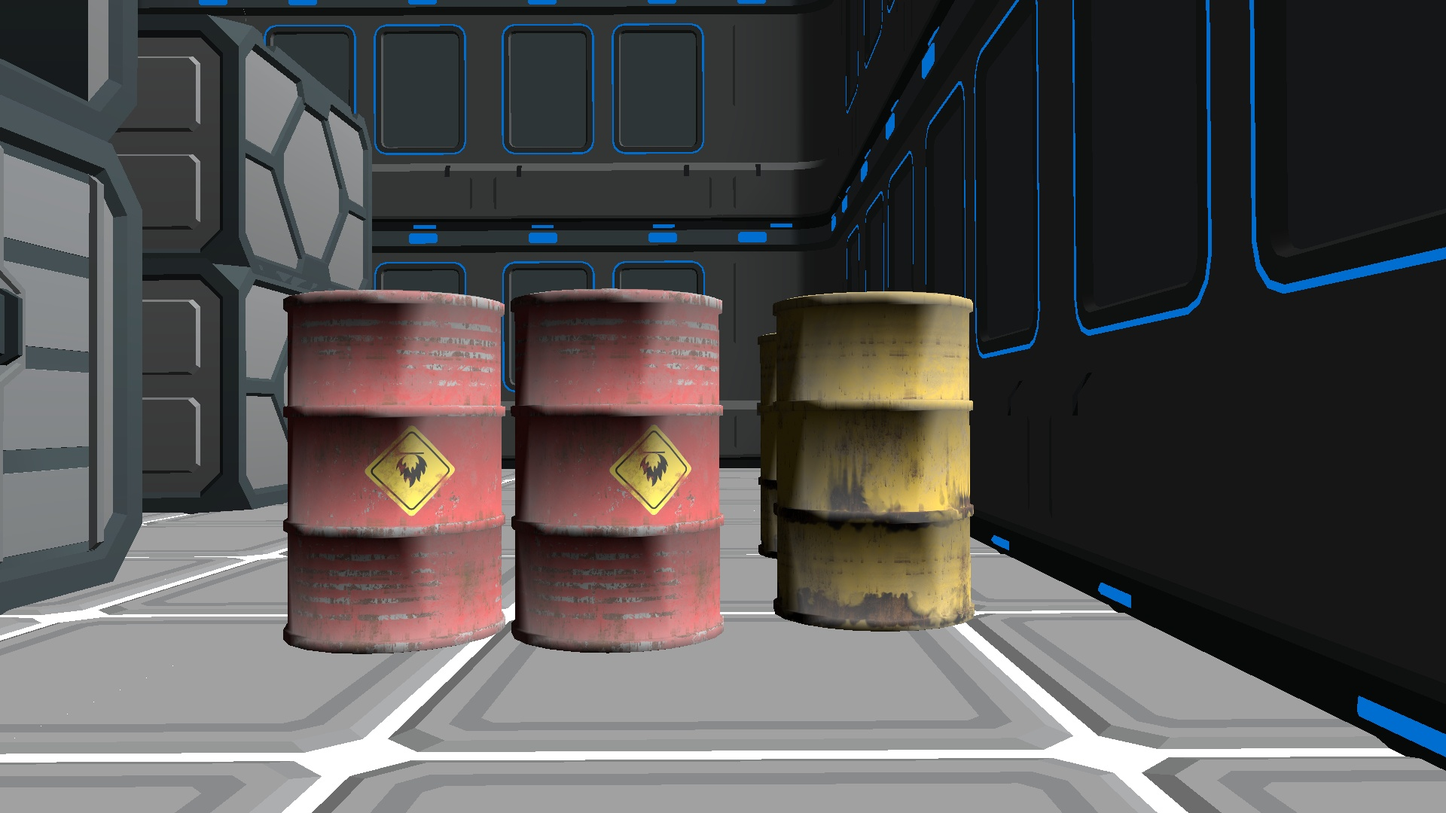toxic barrel: (283, 290, 506, 655), (510, 290, 722, 652), (772, 294, 975, 631)
